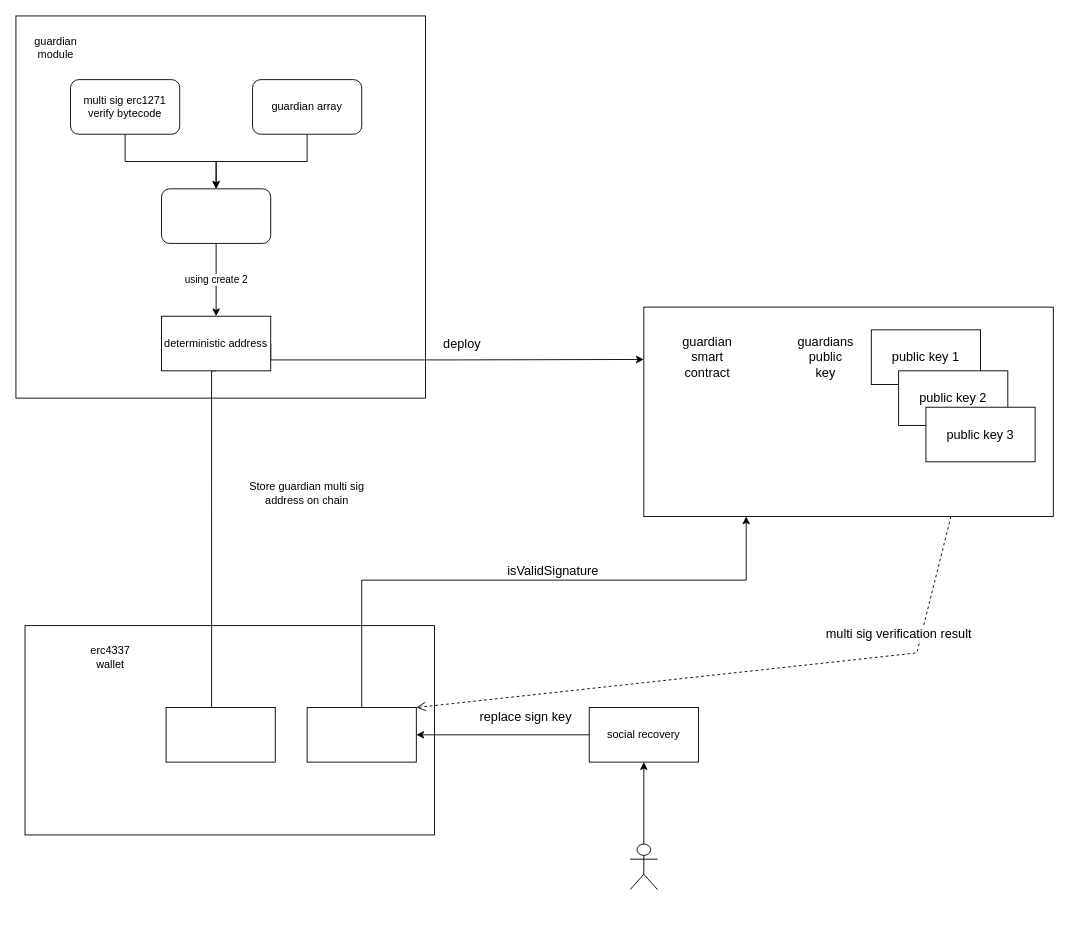
Some shapes in this 1069 by 927 pixel diagram are drawn without their labels. Here are the shapes that lost their labels. From the top down, the centre of each, then its label:
pixel 216 215: guardian init code
pixel 220 734: guardain info
pixel 361 734: Owner address( sign key)
pixel 643 866: User
